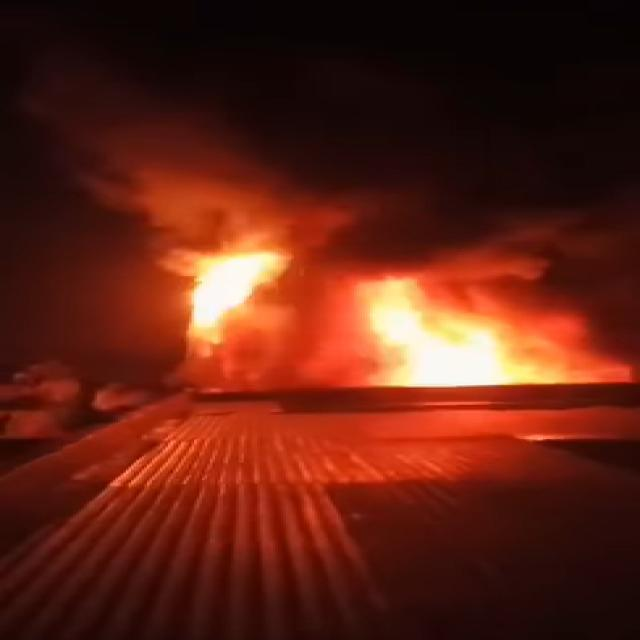Fire: (364, 274, 530, 382), (186, 246, 291, 334)
Smoke: (57, 70, 640, 308)
